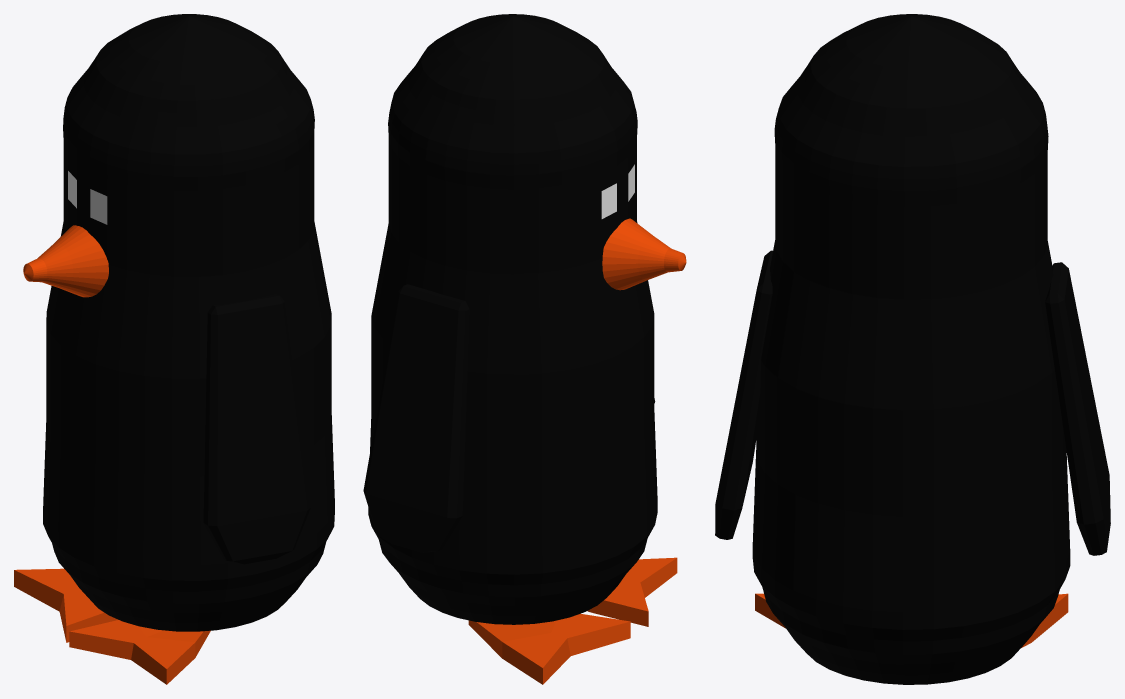
Rendered from penguinnocam.fbx.
3 views of the same model, side by side, from view 1: azimuth 30°, elevation 25°; view 2: azimuth 150°, elevation 25°; view 3: azimuth 270°, elevation 25° (orthographic). The views are drawn at different scales.
Parts seen in each view (by area): view 1: Body; view 2: Body; view 3: Body.
Part boxes in pixels (box(x1,y1,x2,y2)): Body: box(14, 14, 334, 684); Body: box(363, 14, 686, 684); Body: box(715, 14, 1110, 684).
Size of the model in its own units: 252 by 485 by 268.
